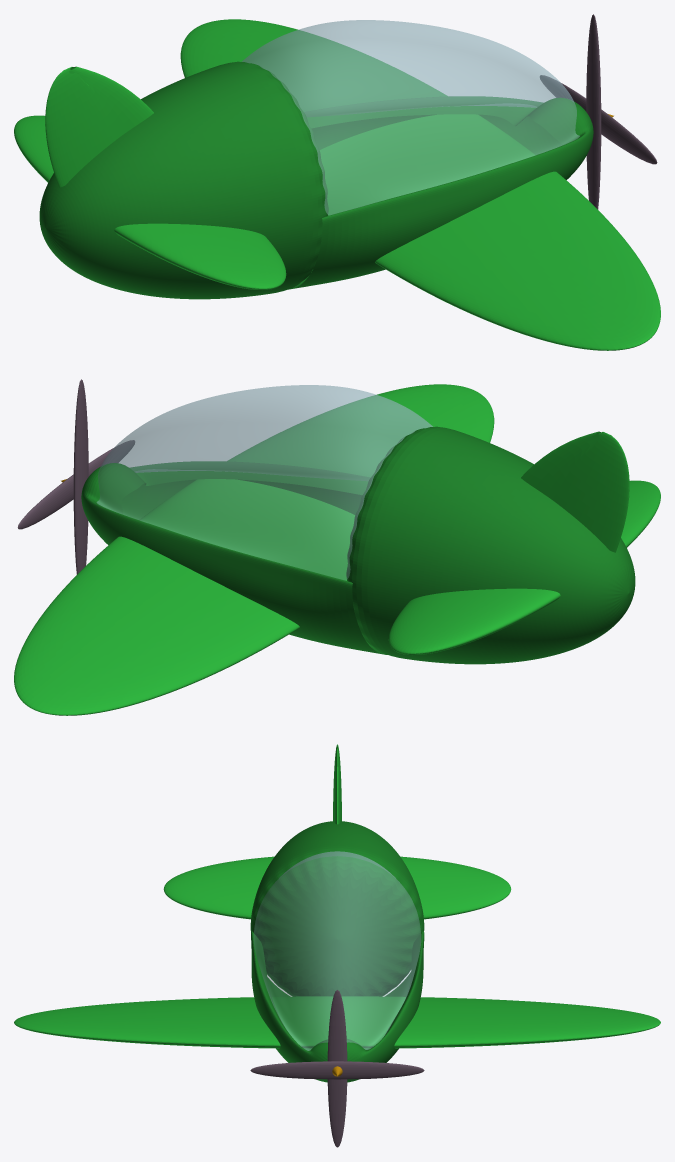
File: Plane2Concept.fbx
The picture shows the model from 3 angles, top to bottom: view 1: azimuth 30°, elevation 25°; view 2: azimuth 150°, elevation 25°; view 3: azimuth 270°, elevation 25°; orthographic projection. The views are drawn at different scales.
Parts seen in each view (by area): view 1: Sphere.002, Sphere, Sphere.007, Sphere.001, Sphere.003, Sphere.006, Sphere.004, Sphere.005; view 2: Sphere.002, Sphere, Sphere.007, Sphere.001, Sphere.003, Sphere.006, Sphere.004, Sphere.005; view 3: Sphere.007, Sphere.002, Sphere, Sphere.003, Sphere.001, Sphere.005, Sphere.004, Sphere.006.
Part boxes in pixels (box(x1,y1,x2,y2)): Sphere.002: box(180, 19, 660, 350); Sphere: box(39, 61, 328, 299); Sphere.007: box(242, 20, 579, 215); Sphere.001: box(288, 96, 593, 289); Sphere.003: box(14, 115, 286, 289); Sphere.006: box(45, 66, 153, 187); Sphere.004: box(586, 14, 601, 209); Sphere.005: box(540, 75, 657, 164); Sphere.002: box(14, 384, 494, 715); Sphere: box(346, 426, 635, 664); Sphere.007: box(97, 385, 432, 580); Sphere.001: box(81, 461, 387, 654); Sphere.003: box(388, 480, 660, 654); Sphere.006: box(521, 431, 629, 552); Sphere.004: box(73, 379, 88, 574); Sphere.005: box(17, 440, 134, 529); Sphere.007: box(254, 851, 420, 1050); Sphere.002: box(14, 996, 660, 1048); Sphere: box(250, 821, 424, 996); Sphere.003: box(163, 856, 511, 919); Sphere.001: box(251, 931, 424, 1082); Sphere.005: box(250, 1061, 424, 1079); Sphere.004: box(327, 990, 347, 1147); Sphere.006: box(333, 744, 341, 824).
Bounding box in the file's own units: 558 × 270 × 743.
